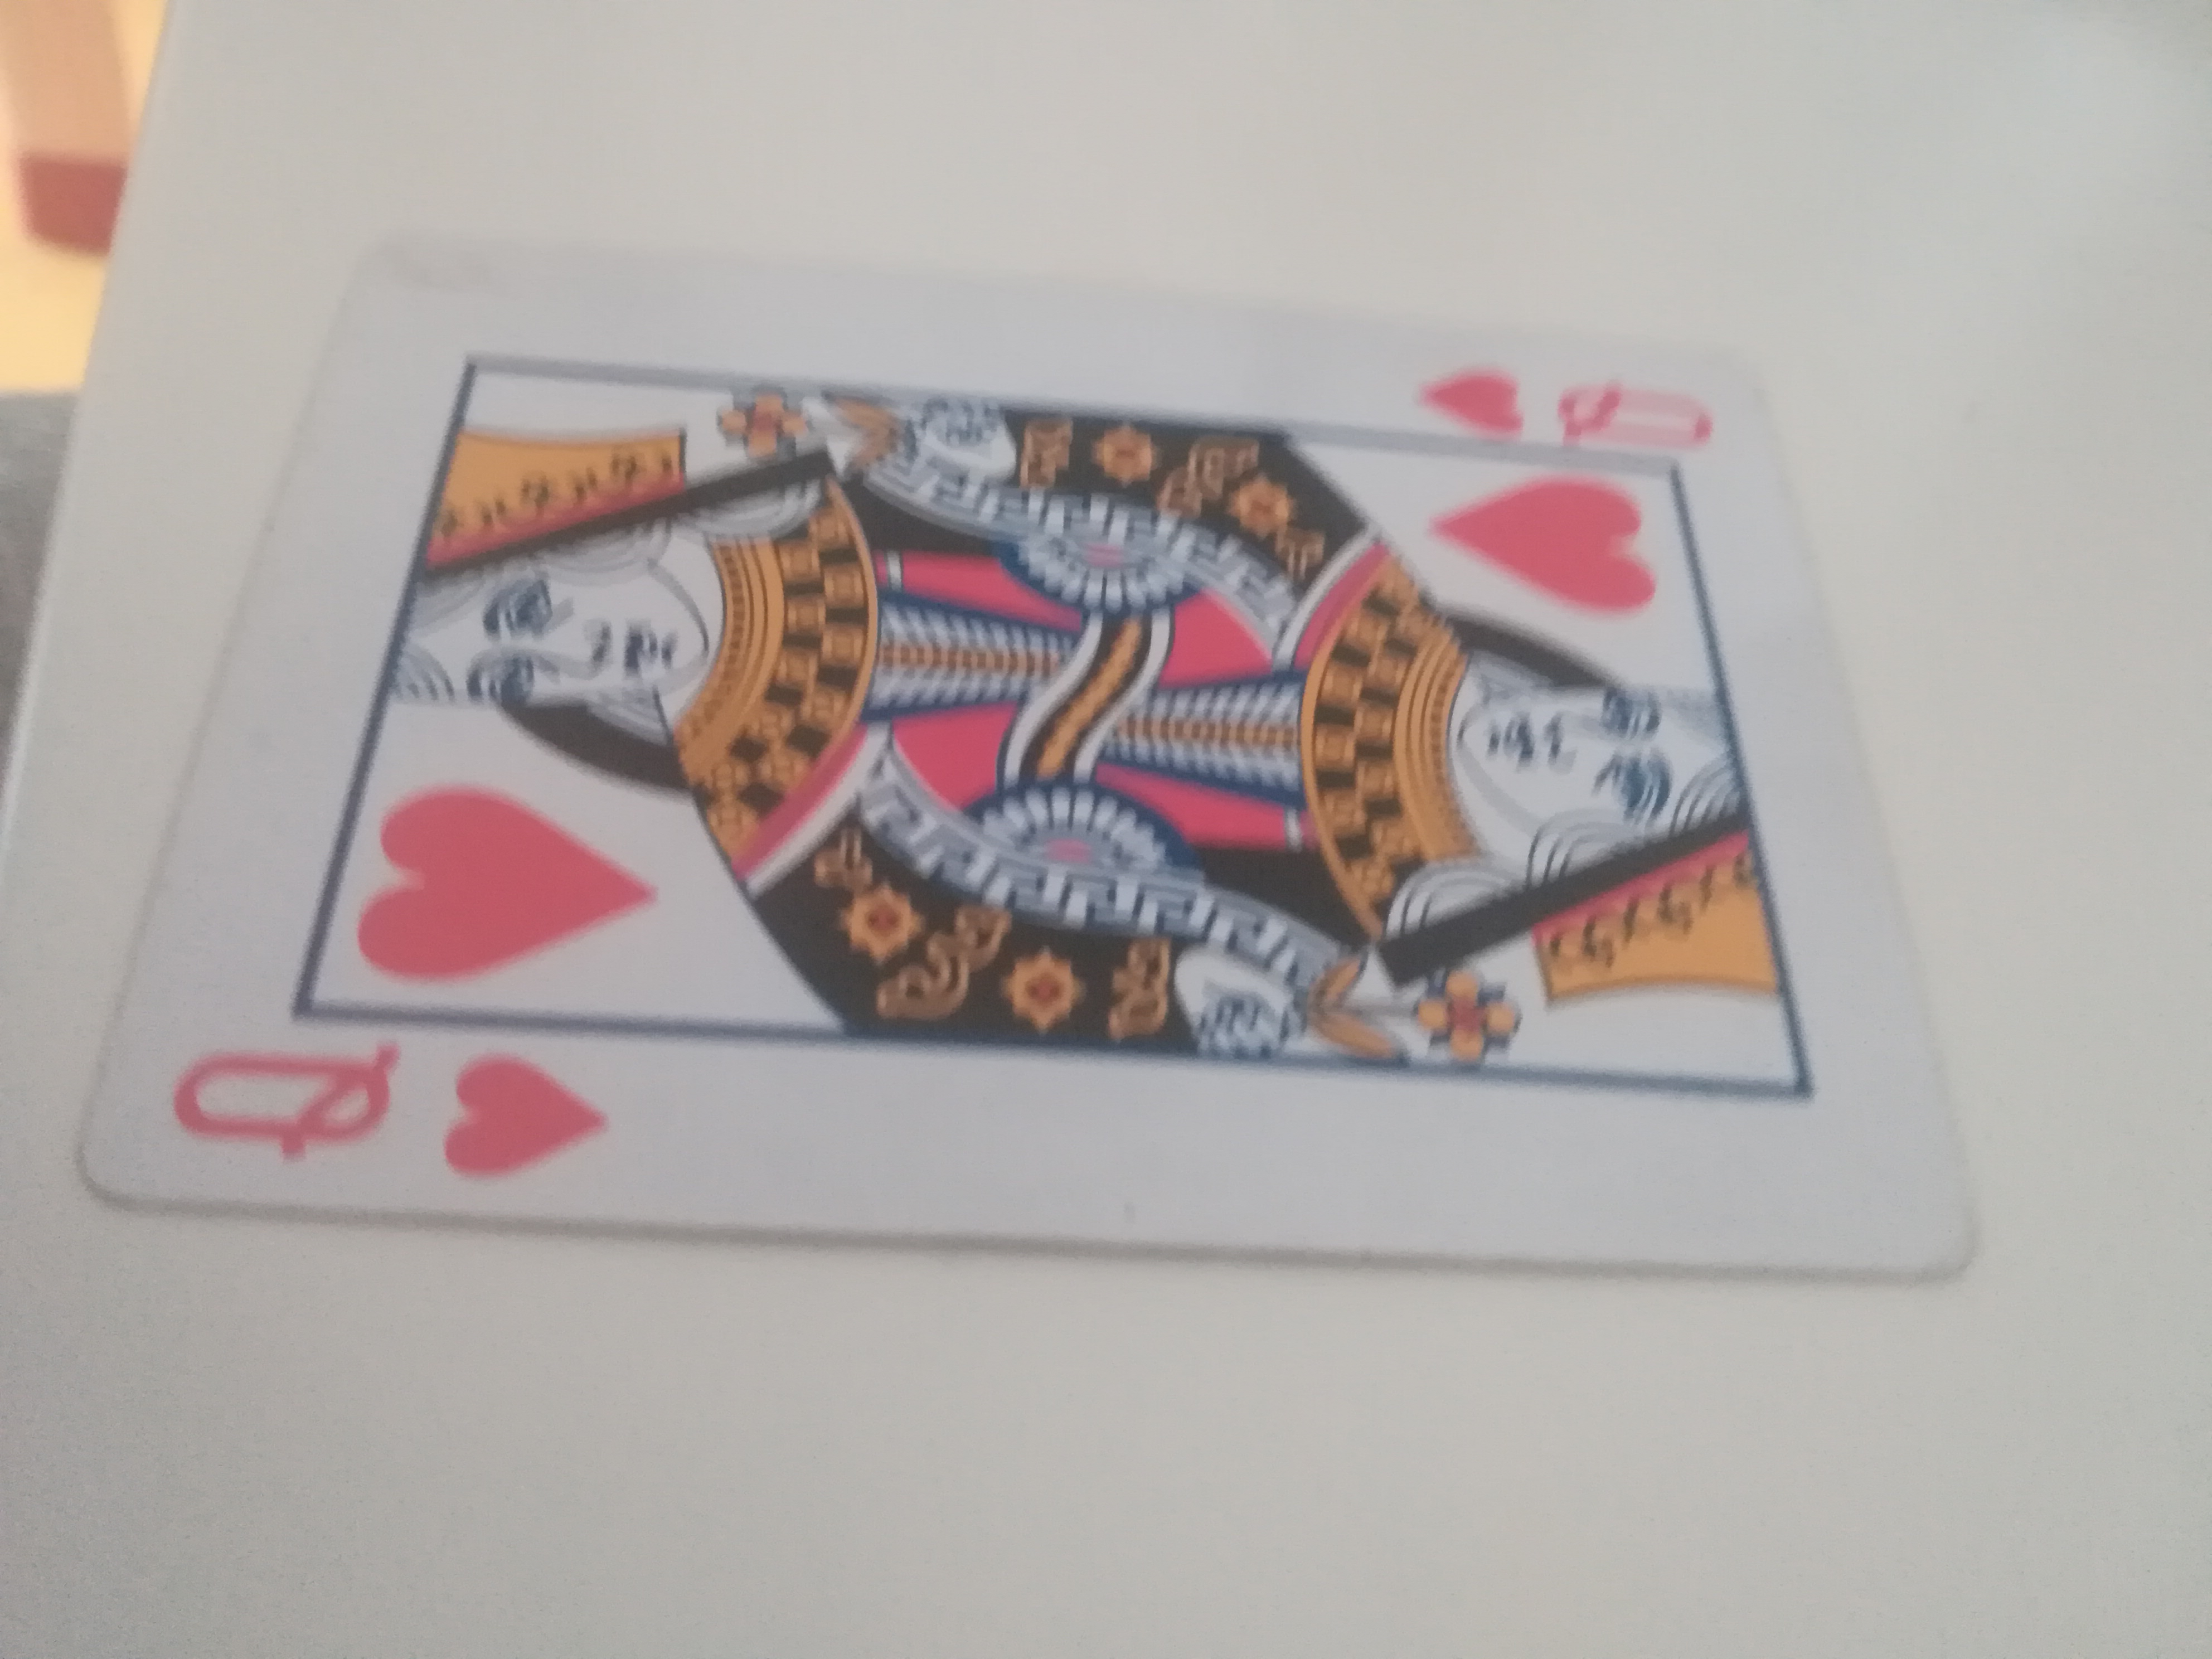QH: (59, 235, 2000, 1293)
